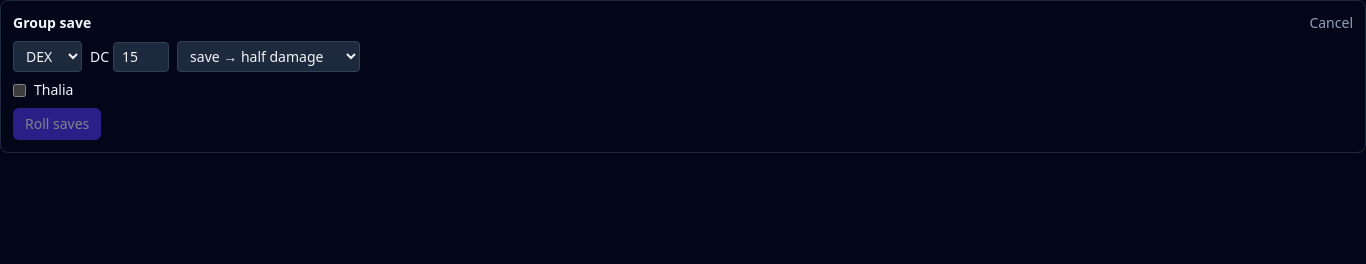
GroupSaveForm › never offers the in-app concentration roll for a PC
The width and height of the screenshot is (1366, 264).
Click the checkbox named "Select Thalia": (20, 90) left=13, top=84, right=26, bottom=96
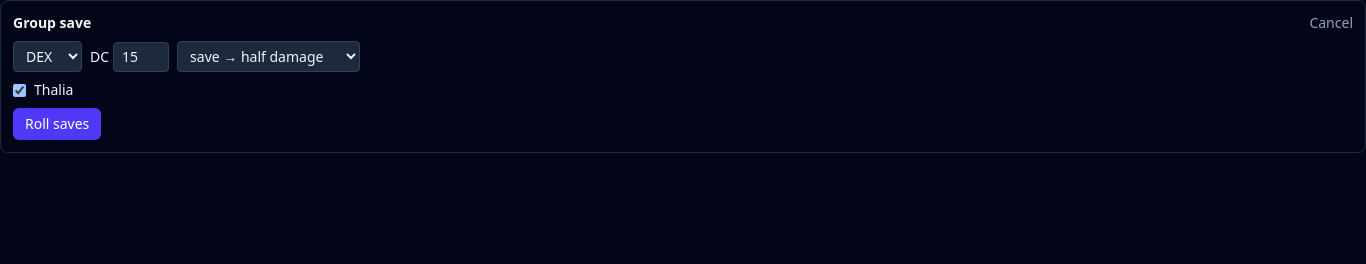
Click the button "Roll saves": (57, 124) left=13, top=108, right=101, bottom=140
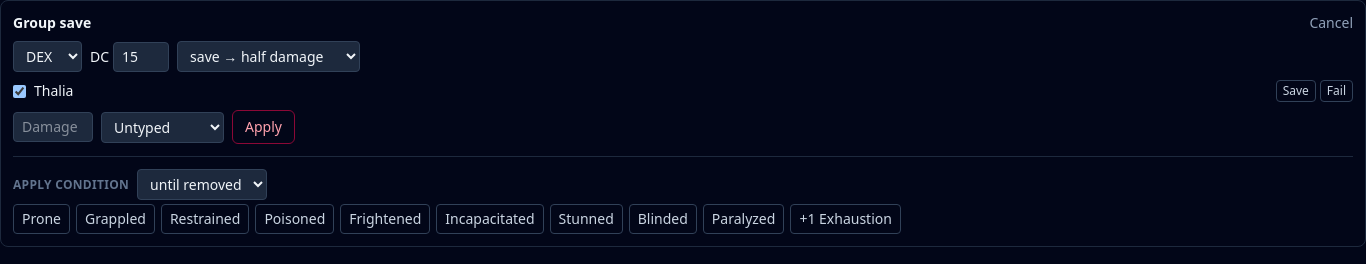
Click the button "Fail": (1336, 91) left=1320, top=80, right=1353, bottom=102
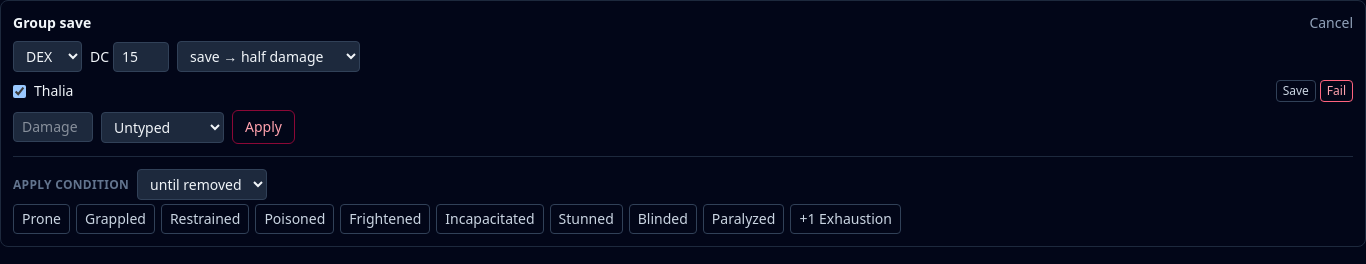
In the field labelled "Damage": (53, 127) left=13, top=112, right=93, bottom=142, type "24"
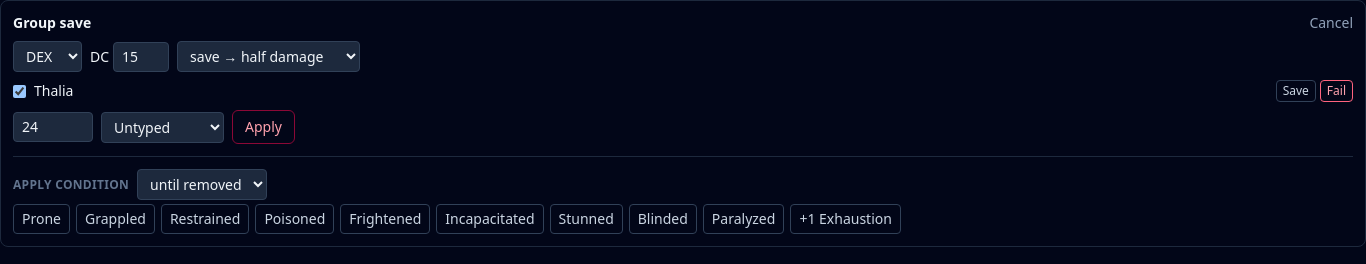
Click the button "Apply": (263, 127) left=232, top=110, right=295, bottom=144
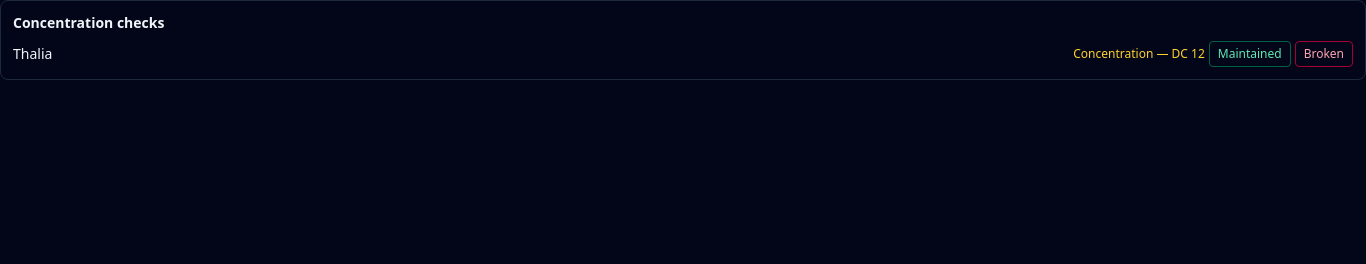
Expected: the text "Concentration — DC 12" is shown, left=1073, top=46, right=1205, bottom=62
